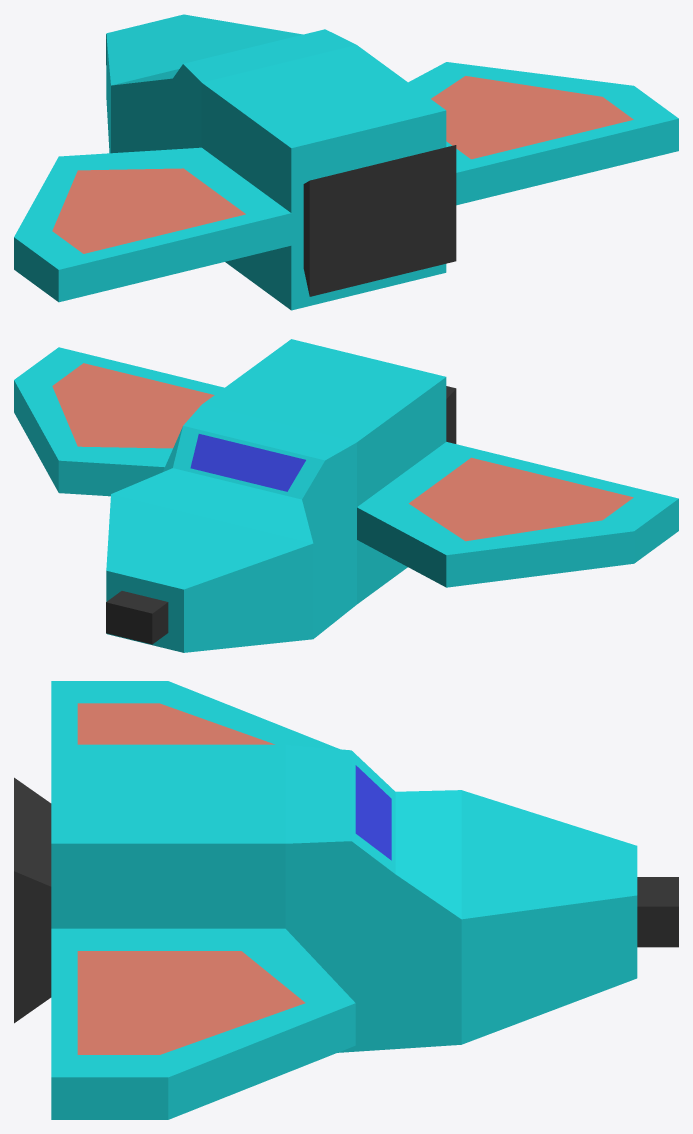
Rendered from enemy-vessel-2.fbx.
3 views of the same model, one above another, from view 1: azimuth 30°, elevation 25°; view 2: azimuth 150°, elevation 25°; view 3: azimuth 270°, elevation 25° (orthographic). The views are drawn at different scales.
Parts seen in each view (by area): view 1: enemy-vessel2; view 2: enemy-vessel2; view 3: enemy-vessel2.
Part boxes in pixels (x1,y1,x2,y2): enemy-vessel2: (14, 14, 678, 310); enemy-vessel2: (14, 339, 678, 652); enemy-vessel2: (14, 681, 678, 1119).
Bounding box in the file's own units: 800 × 200 × 567.
